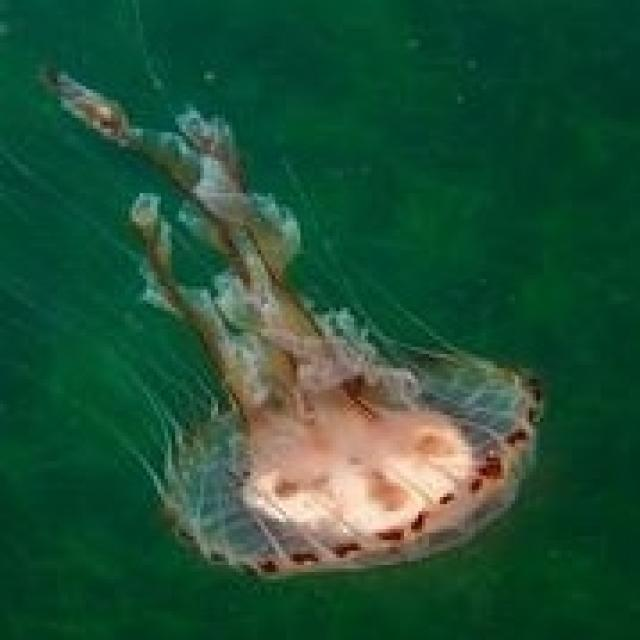Box-jellyfish: (36, 57, 543, 579)
